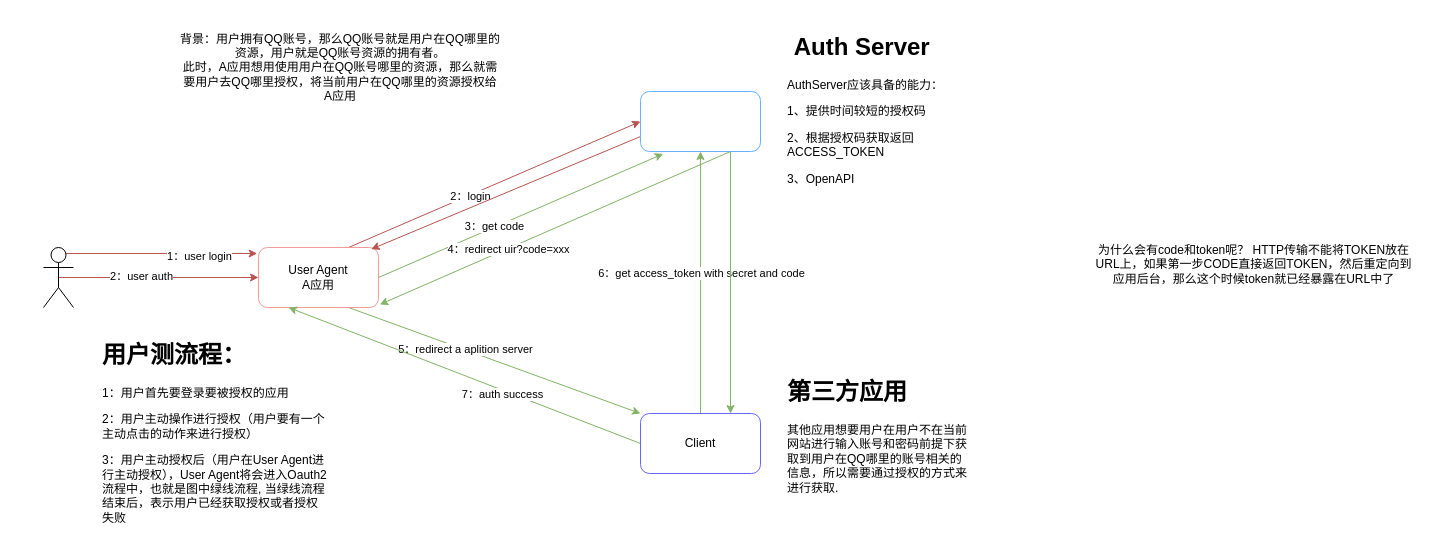
The diagram is 1431 pixels wide and 552 high, and some of its shapes have lost their labels. Here are the shapes that lost their labels. From the top down, the centre of each, then its label:
At [700,121]: "Auth Server".
At [58,277]: "resource owner".
